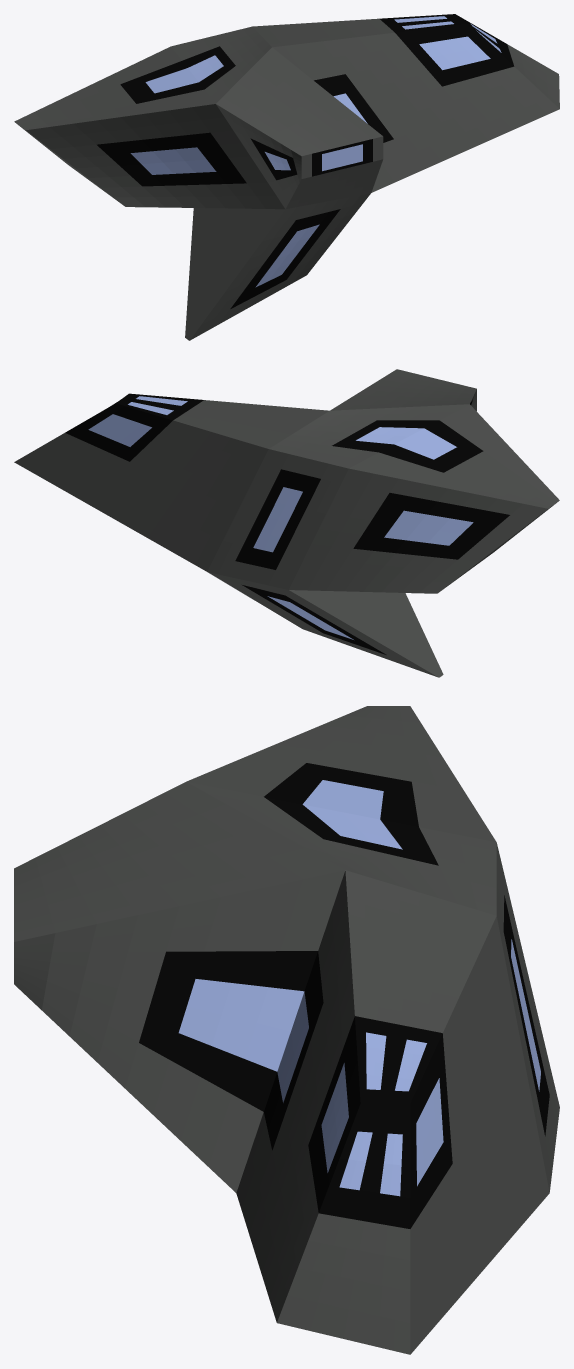
Rendered from CameraShip.fbx.
3 renders of one model, top to bottom at view 1: azimuth 30°, elevation 25°; view 2: azimuth 150°, elevation 25°; view 3: azimuth 270°, elevation 25°, orthographic. The views are drawn at different scales.
Parts seen in each view (by area): view 1: ShipTest; view 2: ShipTest; view 3: ShipTest.
Boxes of the visible parts, <box> form: ShipTest: <box>14,14,559,340</box>; ShipTest: <box>14,369,559,677</box>; ShipTest: <box>14,706,559,1354</box>.
Bounding box in the file's own units: 627 × 1335 × 602.
